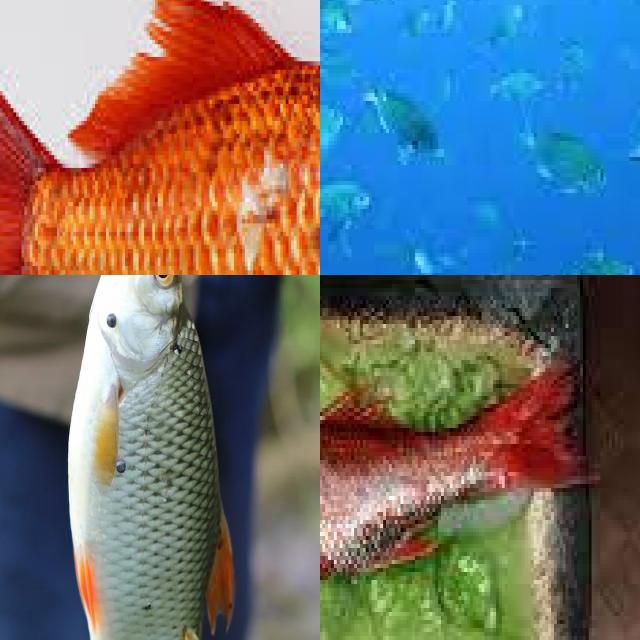fish: (0, 275, 320, 640), (320, 300, 608, 640), (0, 0, 320, 275), (320, 0, 640, 275)
